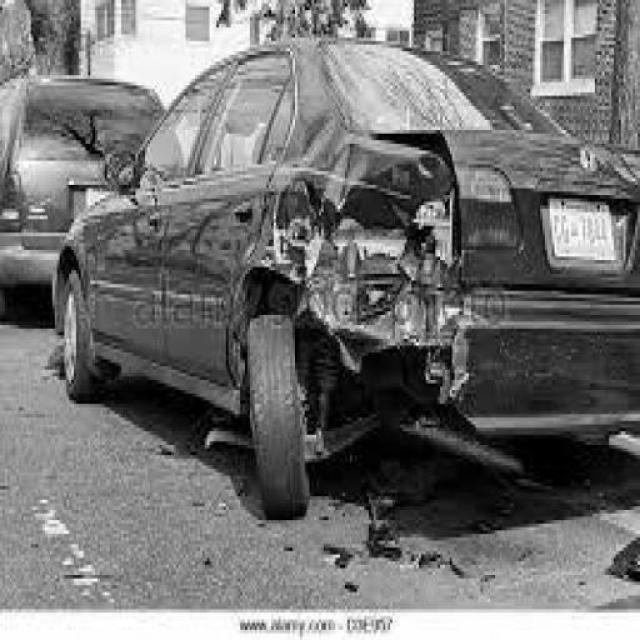crush: (217, 126, 477, 443)
